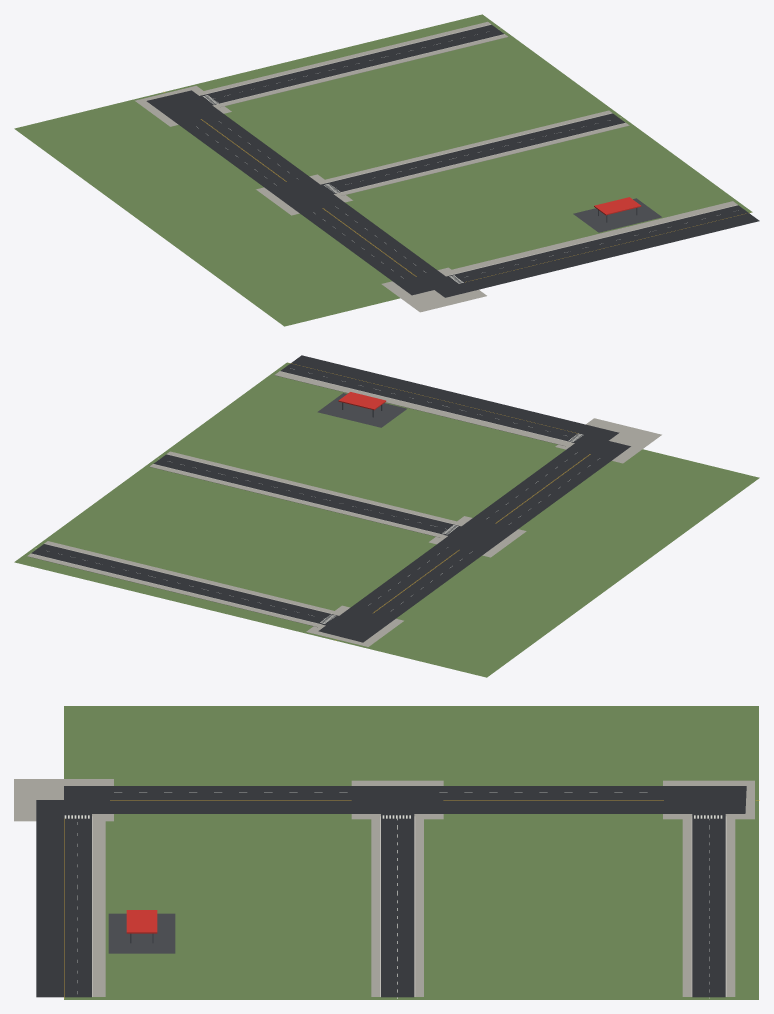
The model's file is Ground_0_4.fbx.
3 views of the same model, one above another, from view 1: azimuth 30°, elevation 25°; view 2: azimuth 150°, elevation 25°; view 3: azimuth 270°, elevation 25° (orthographic). The views are drawn at different scales.
Visible parts, largest first — view 1: Ground_0_4; view 2: Ground_0_4; view 3: Ground_0_4.
Boxes of the visible parts, x1,y1,x2,y2 form: Ground_0_4: (14,14,759,326); Ground_0_4: (14,355,759,677); Ground_0_4: (14,706,759,999).
Size of the model in its own units: 250 by 5.1 by 268.
